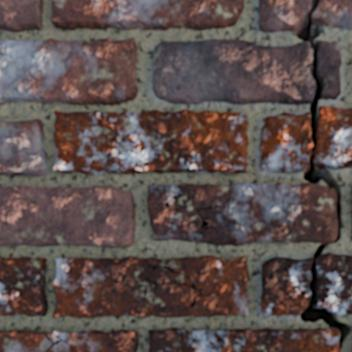brick: (54, 110, 247, 174), (53, 255, 248, 317), (147, 183, 336, 245), (0, 39, 137, 104), (0, 186, 134, 247), (51, 0, 243, 29), (149, 328, 304, 351), (0, 257, 47, 315), (0, 119, 46, 175), (50, 330, 138, 351), (0, 0, 42, 31), (0, 330, 50, 351), (303, 328, 339, 351), (48, 332, 57, 341)
broken_brick: (152, 38, 313, 105), (259, 111, 311, 173), (260, 256, 312, 315), (317, 105, 351, 170), (317, 252, 351, 315), (258, 0, 309, 33), (315, 39, 342, 100), (313, 0, 351, 30)
crack: (296, 0, 351, 349), (41, 331, 71, 351), (299, 329, 308, 351), (161, 40, 194, 43), (210, 0, 216, 7)
